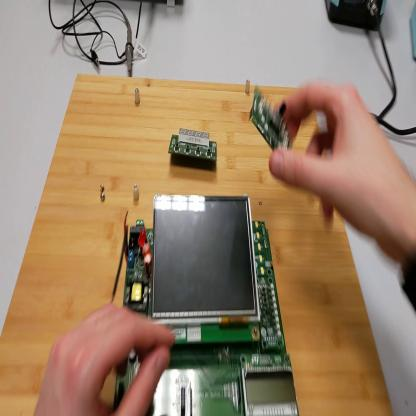hand: (269, 78, 411, 247), (37, 306, 176, 415)
low voltage board: (109, 196, 300, 416)
oscilloscope probe tip: (125, 16, 135, 81)
welder station: (326, 1, 387, 32)
working area: (2, 70, 393, 415)
